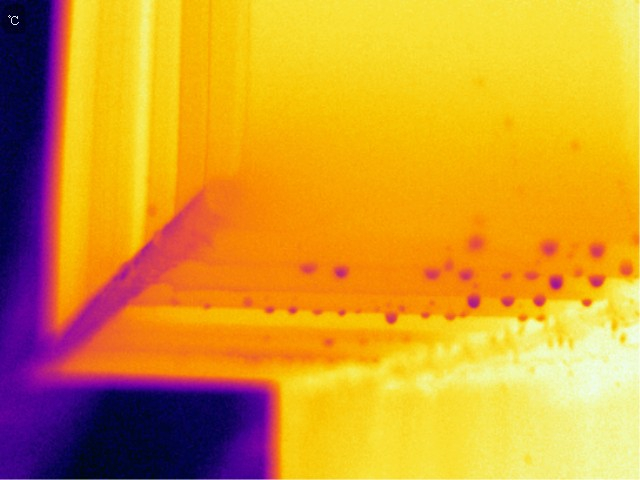Water: (462, 233, 492, 251), (536, 240, 558, 259), (499, 272, 542, 281), (589, 274, 608, 291), (331, 265, 354, 278), (591, 244, 609, 260), (308, 305, 325, 321), (335, 307, 351, 324), (618, 258, 633, 276), (457, 269, 479, 281), (548, 274, 564, 290), (574, 298, 595, 309), (466, 296, 482, 310), (423, 268, 441, 280), (516, 313, 530, 328), (288, 301, 299, 320), (500, 296, 517, 308), (300, 261, 318, 272), (446, 311, 458, 325), (384, 313, 399, 324), (530, 296, 548, 305), (418, 311, 431, 323), (264, 306, 278, 317), (537, 310, 547, 325)
